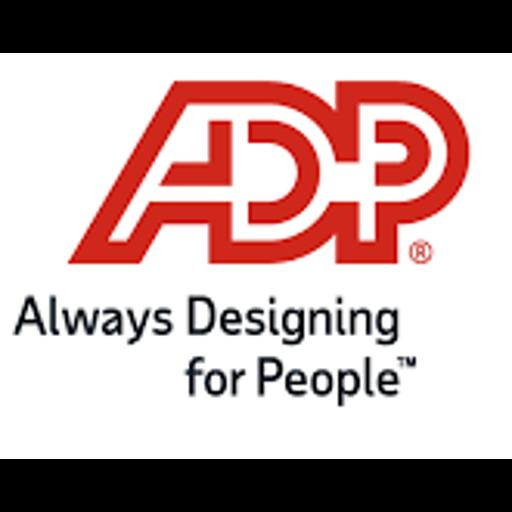ADP: (0, 53, 512, 459)
